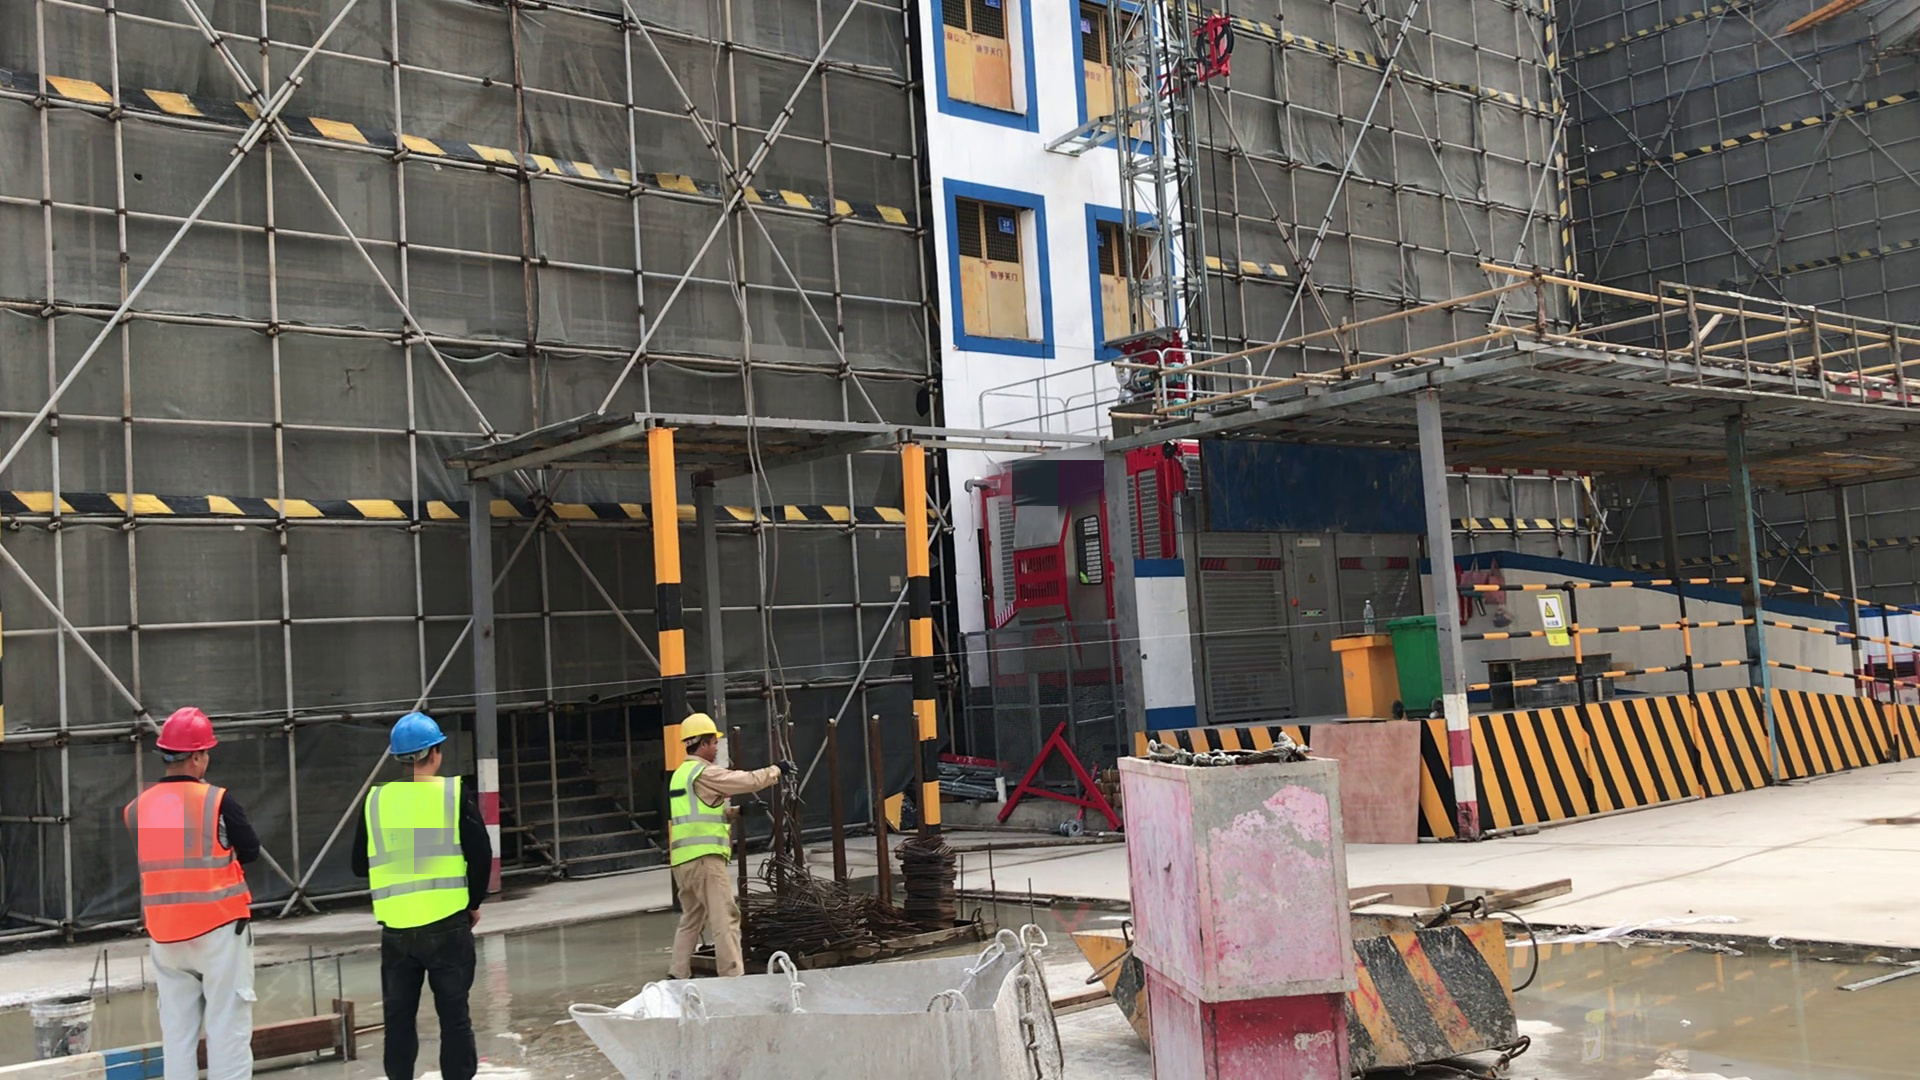fence: (1436, 550, 1920, 717)
helmet: (382, 709, 455, 761), (154, 708, 220, 756), (682, 712, 728, 744)
hopper: (1082, 902, 1544, 1074), (553, 948, 1050, 1080)
person: (113, 701, 269, 1080), (350, 706, 497, 1080), (658, 700, 789, 986)
slogan: (1539, 581, 1586, 660)
vest: (120, 777, 257, 947), (365, 771, 477, 939), (668, 755, 727, 884)
